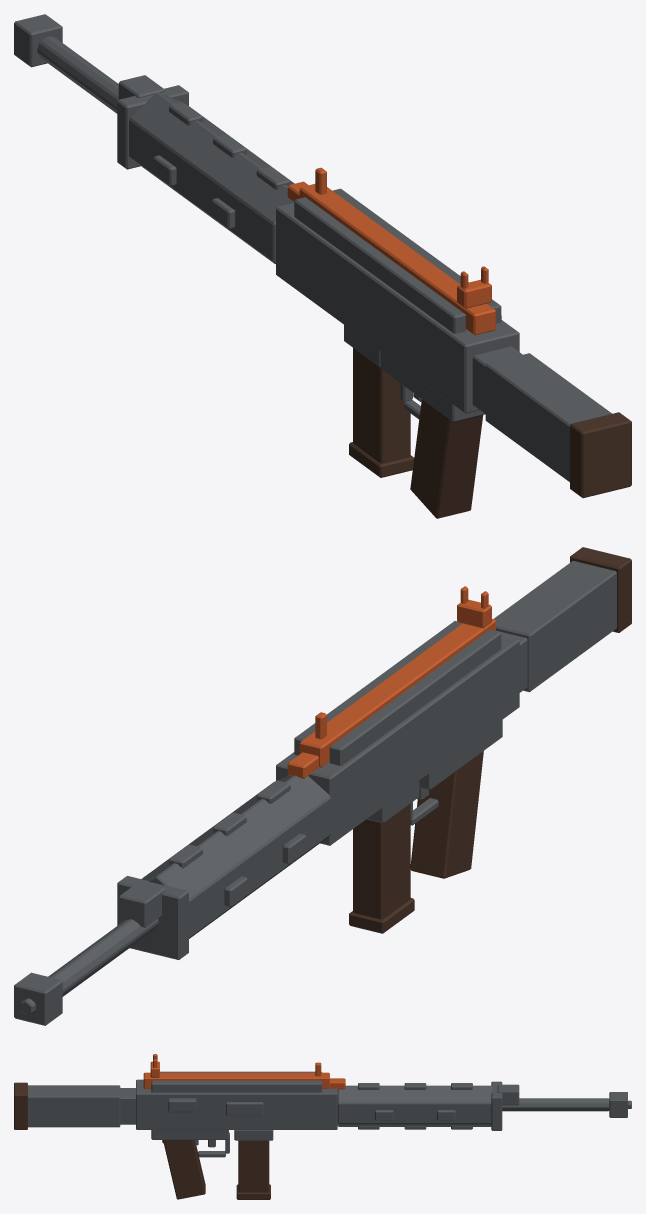
File: ridge-15.glb
3 renders of one model, top to bottom at view 1: azimuth 30°, elevation 25°; view 2: azimuth 150°, elevation 25°; view 3: azimuth 270°, elevation 25°, orthographic. The views are drawn at different scales.
Visible parts, largest first — view 1: Ridge15; view 2: Ridge15; view 3: Ridge15.
Boxes of the visible parts, <box> form: Ridge15: <box>14,14,631,518</box>; Ridge15: <box>14,547,631,1025</box>; Ridge15: <box>14,1054,631,1199</box>.
Size of the model in its own units: 0.0594 by 0.1856 by 0.75.
